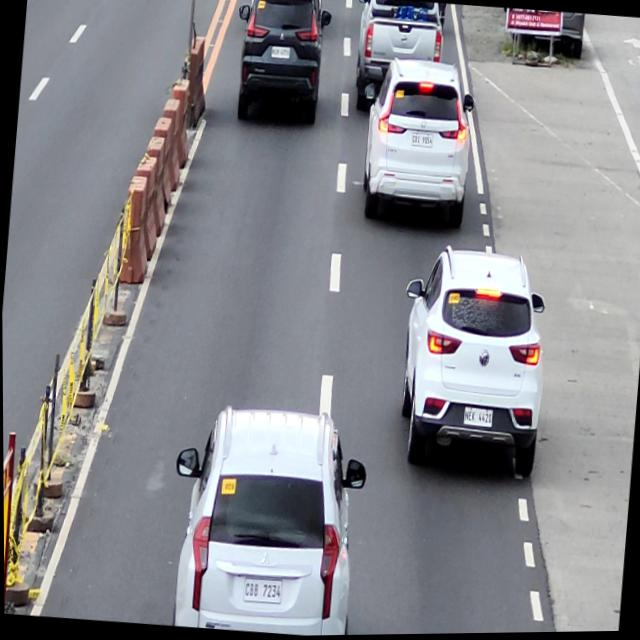Car: (160, 400, 372, 638), (390, 243, 553, 482), (353, 55, 479, 226), (229, 0, 333, 126), (350, 0, 446, 119)
License-Plate: (241, 576, 283, 605), (462, 407, 493, 430), (410, 132, 433, 150), (270, 47, 290, 59)
